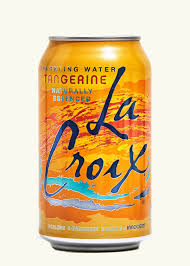can: (35, 33, 157, 257)
